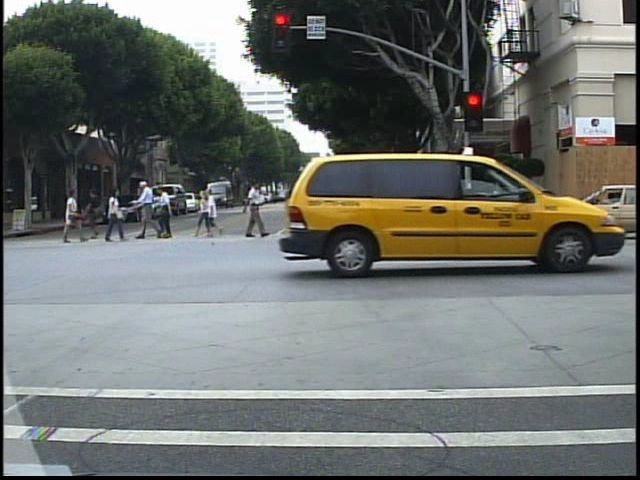person: (311, 167, 337, 238), (135, 176, 162, 244), (57, 187, 88, 243), (239, 181, 268, 240), (102, 187, 124, 245), (156, 186, 179, 240), (86, 188, 106, 242)
